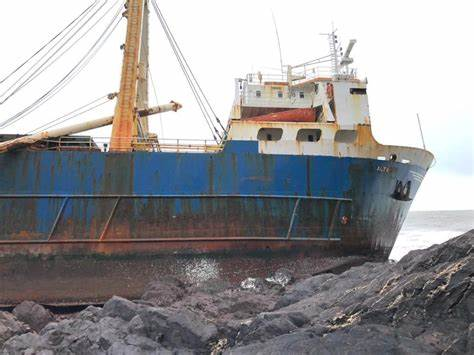rust: (5, 197, 299, 243), (105, 154, 138, 192), (259, 157, 275, 188), (230, 155, 244, 190), (304, 159, 314, 194), (206, 156, 215, 192)
